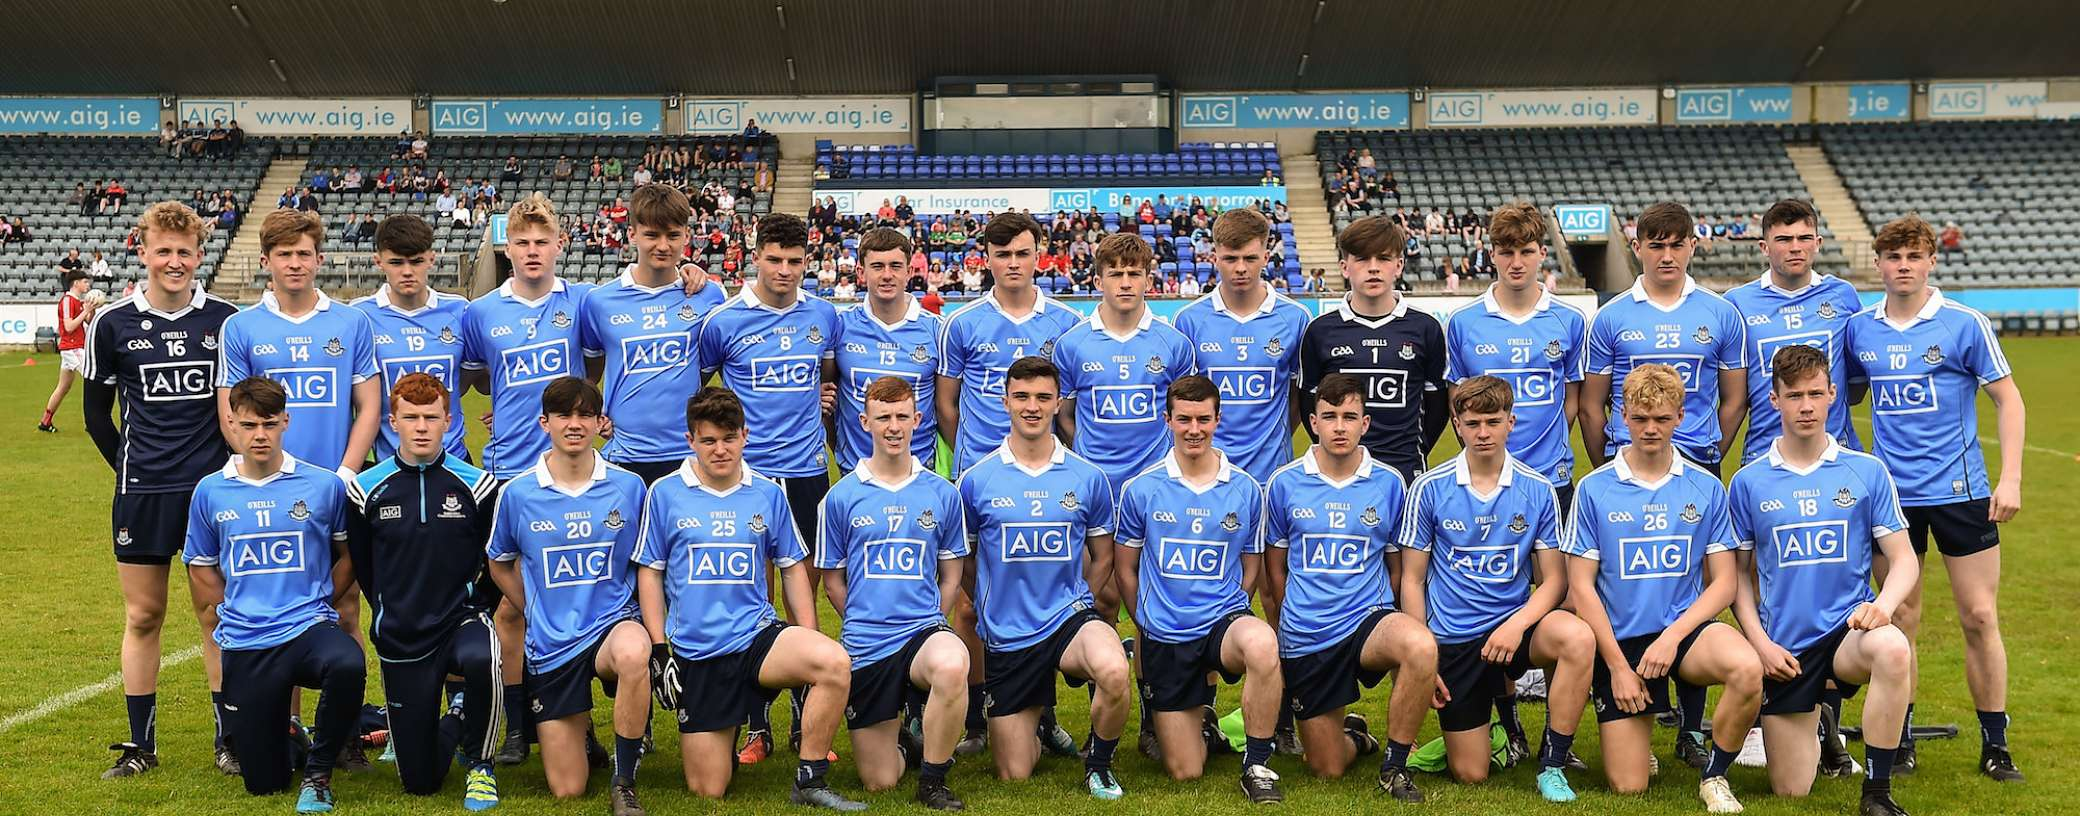player: (1860, 208, 2044, 726), (1719, 334, 1894, 791), (335, 373, 537, 763), (652, 378, 836, 776), (962, 354, 1140, 751), (827, 365, 983, 772), (1419, 368, 1568, 738), (1129, 372, 1276, 744), (506, 377, 656, 738), (213, 381, 352, 763), (123, 204, 231, 691), (1583, 362, 1710, 741), (1272, 377, 1413, 713), (1610, 198, 1740, 458), (1321, 212, 1457, 462), (1473, 202, 1587, 489), (241, 204, 364, 470), (598, 182, 715, 428), (1750, 185, 1861, 442), (729, 205, 843, 433), (484, 190, 591, 420), (1073, 224, 1190, 434), (1199, 209, 1305, 435), (371, 202, 468, 427), (964, 215, 1060, 435), (849, 230, 931, 423)
